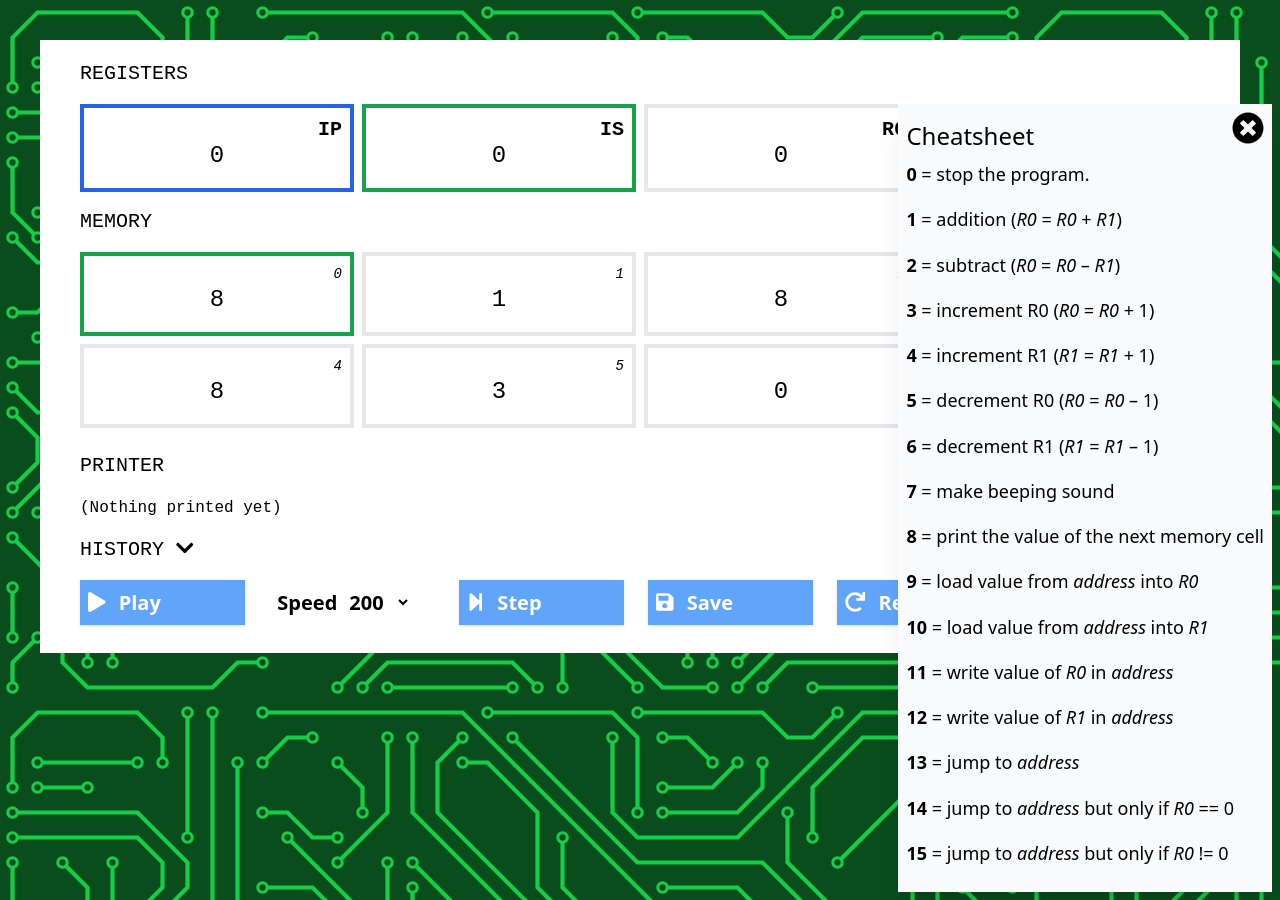
Test case: FantasyCpu component › should when the pause button is pressed during play stop the program until the play button is pressed again
Click the button "Play".
click(163, 602)  # box 80,580 -> 245,625
Wait 400 ms
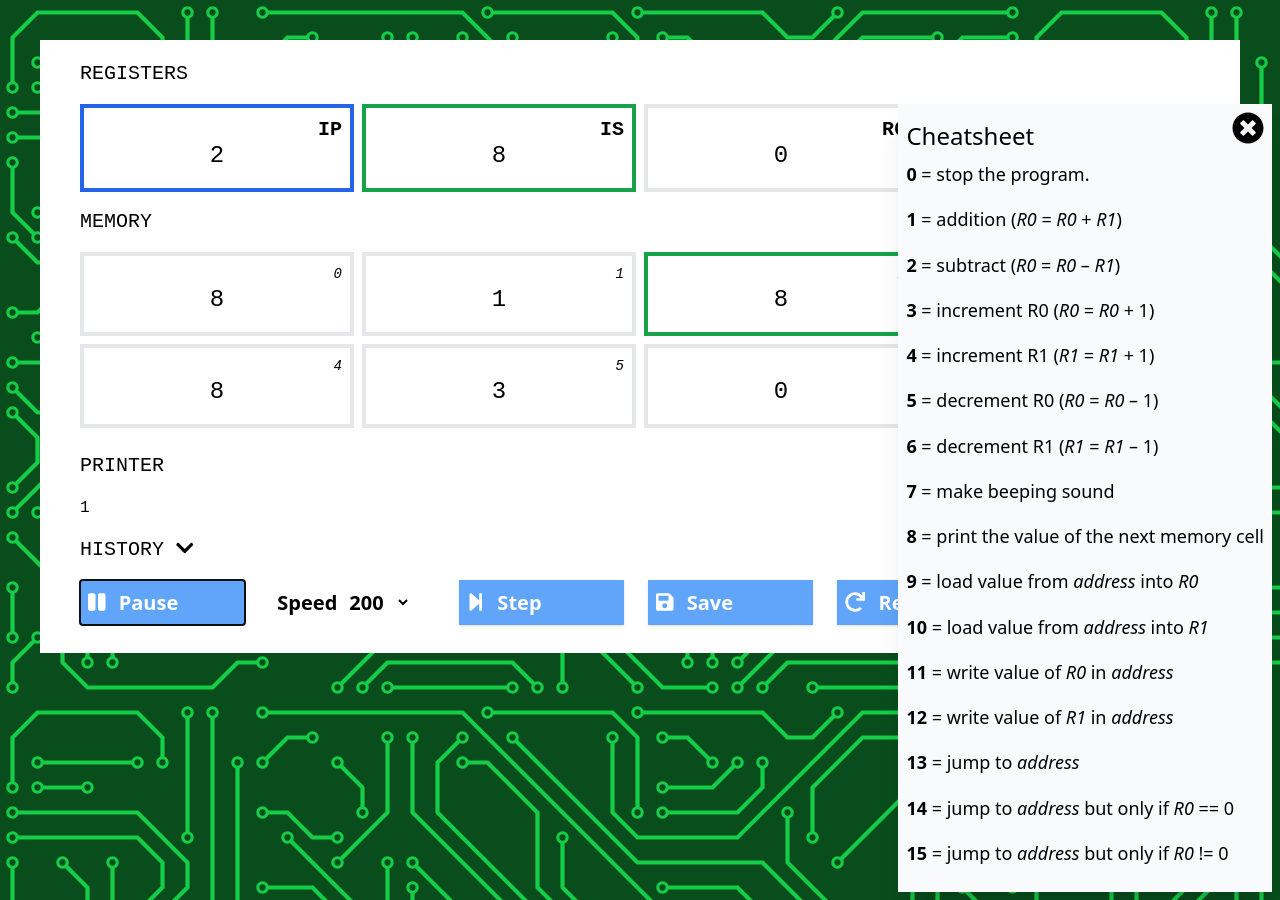
Check: the text with test id "line" reads "1", box 80,499 -> 90,517
Click the button "Pause".
click(163, 602)  # box 80,580 -> 245,625
Wait 10000 ms
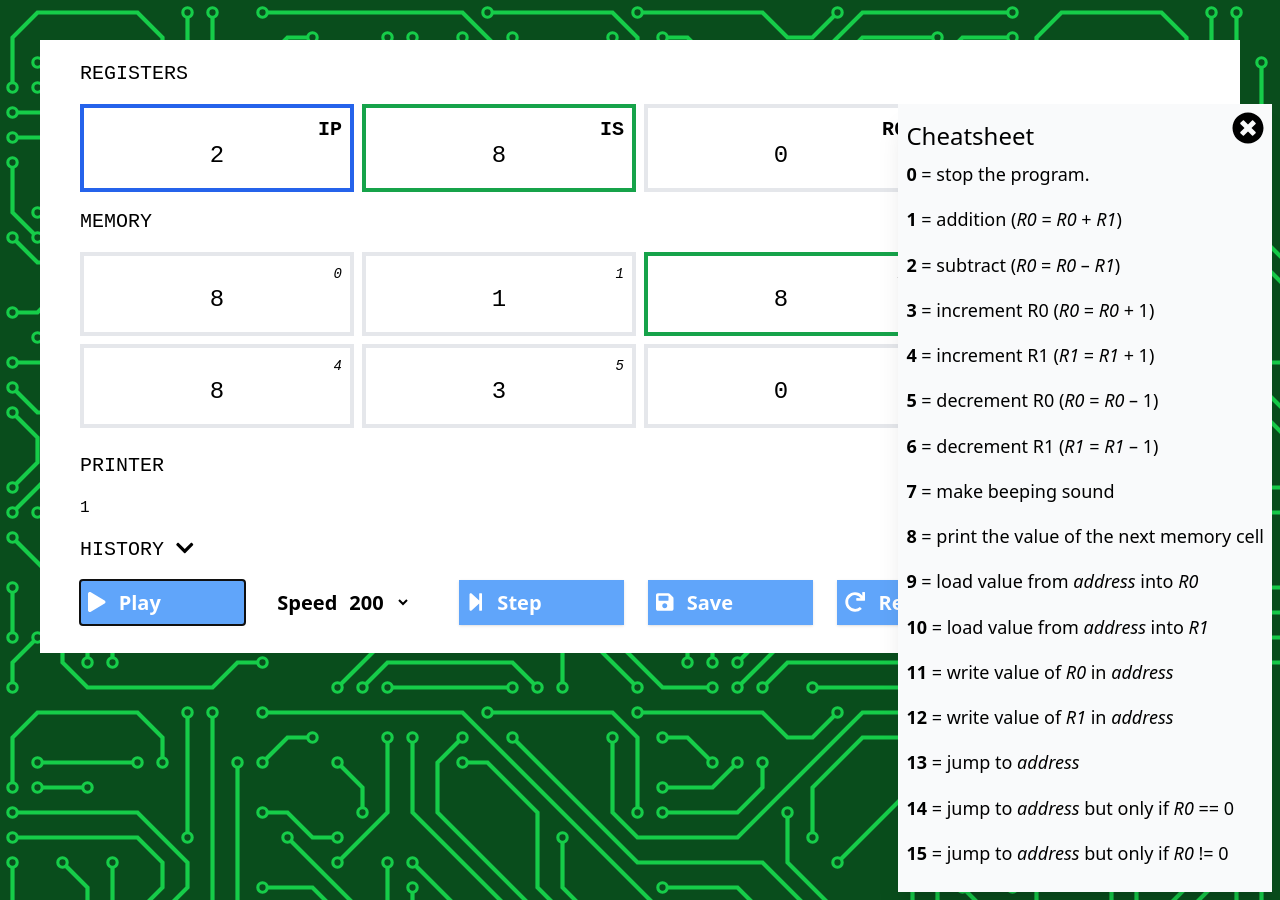
Check: the number of elements with test id "line" is 1, box 80,499 -> 90,517
Click the button "Play".
click(163, 602)  # box 80,580 -> 245,625
Wait 10000 ms
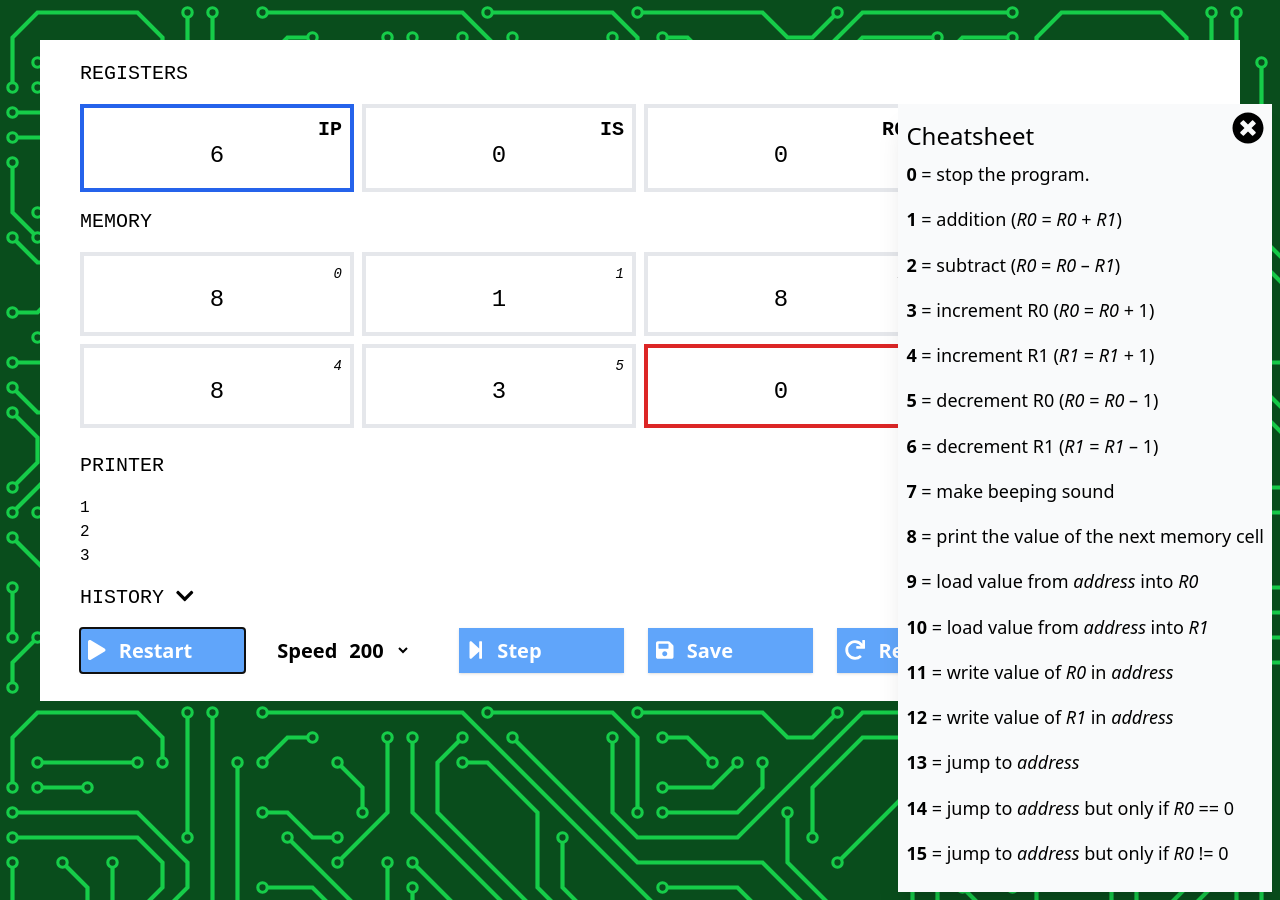
Check: the text with test id "line" below "printer" reads "1", box 80,499 -> 90,517
Check: the text with test id "line" below "printer" reads "2", box 80,523 -> 90,541
Check: the text with test id "line" below "printer" reads "3", box 80,547 -> 90,565
